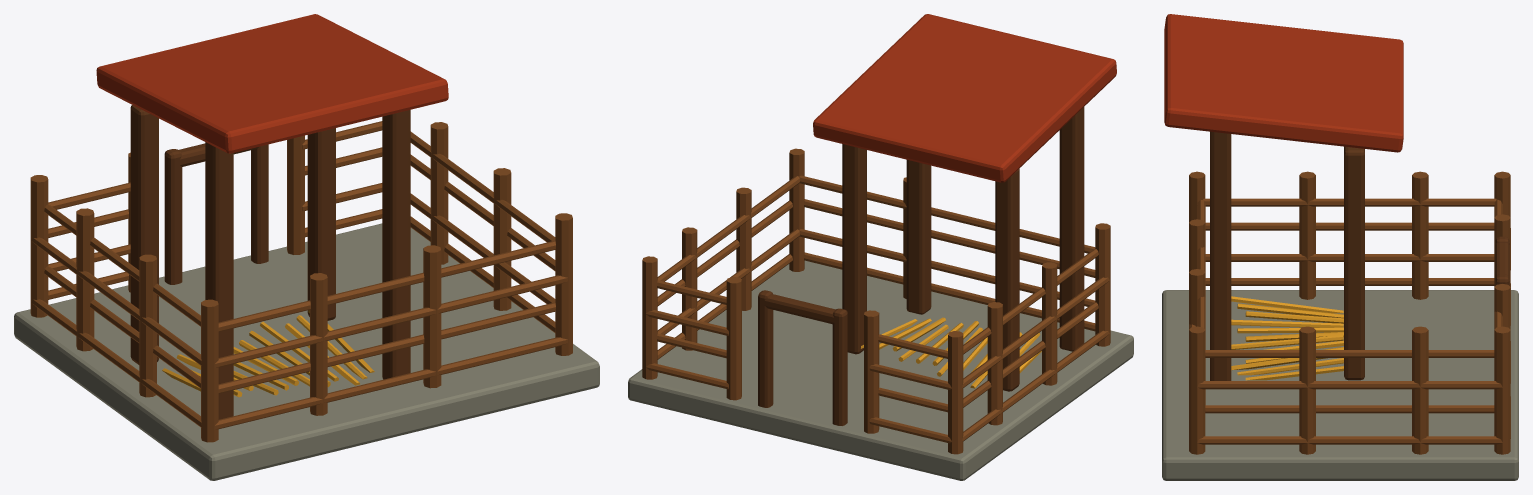
File: SheepFold.glb
The picture shows the model from 3 angles, left to right: view 1: azimuth 30°, elevation 25°; view 2: azimuth 150°, elevation 25°; view 3: azimuth 270°, elevation 25°; orthographic projection. The views are drawn at different scales.
Parts seen in each view (by area): view 1: SheepFold_Stone, SheepFold_Wattle, SheepFold_Roof, SheepFold_ShelterFrame, SheepFold_Gate, SheepFold_Straw; view 2: SheepFold_Stone, SheepFold_Wattle, SheepFold_Roof, SheepFold_ShelterFrame, SheepFold_Gate, SheepFold_Straw; view 3: SheepFold_Stone, SheepFold_Wattle, SheepFold_Roof, SheepFold_ShelterFrame, SheepFold_Straw, SheepFold_Gate.
Part boxes in pixels (<box>): SheepFold_Stone: <box>14,223,599,480</box>; SheepFold_Wattle: <box>30,121,572,442</box>; SheepFold_Roof: <box>96,14,448,153</box>; SheepFold_ShelterFrame: <box>130,105,410,419</box>; SheepFold_Gate: <box>164,143,268,284</box>; SheepFold_Straw: <box>162,310,374,397</box>; SheepFold_Stone: <box>628,260,1133,480</box>; SheepFold_Wattle: <box>642,148,1110,454</box>; SheepFold_Roof: <box>813,14,1116,182</box>; SheepFold_ShelterFrame: <box>842,107,1084,391</box>; SheepFold_Gate: <box>758,290,847,425</box>; SheepFold_Straw: <box>860,317,1041,388</box>; SheepFold_Stone: <box>1162,290,1518,480</box>; SheepFold_Wattle: <box>1189,171,1510,454</box>; SheepFold_Roof: <box>1164,14,1403,152</box>; SheepFold_ShelterFrame: <box>1210,131,1364,380</box>; SheepFold_Straw: <box>1231,296,1343,380</box>; SheepFold_Gate: <box>1495,236,1509,285</box>.
Bounding box in the file's own units: 1.72 × 1.44 × 1.52.
